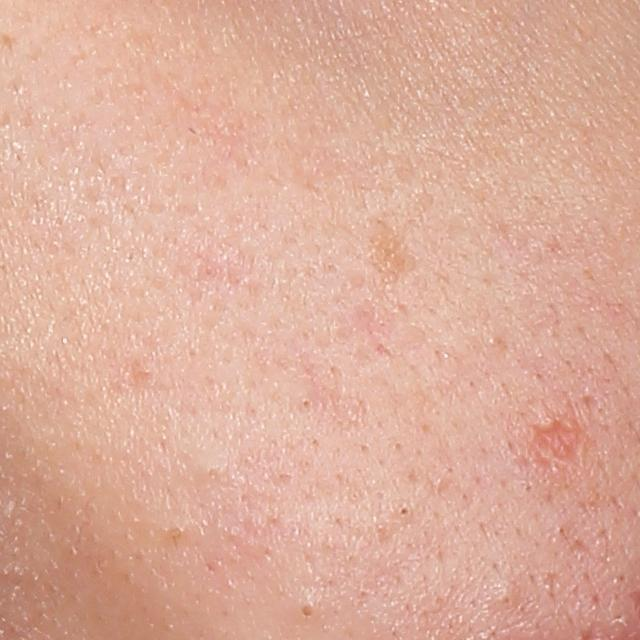atrophic_scar: (530, 425, 583, 477)
comedo: (489, 582, 519, 610), (299, 599, 318, 621), (397, 504, 411, 518), (300, 396, 313, 410)
